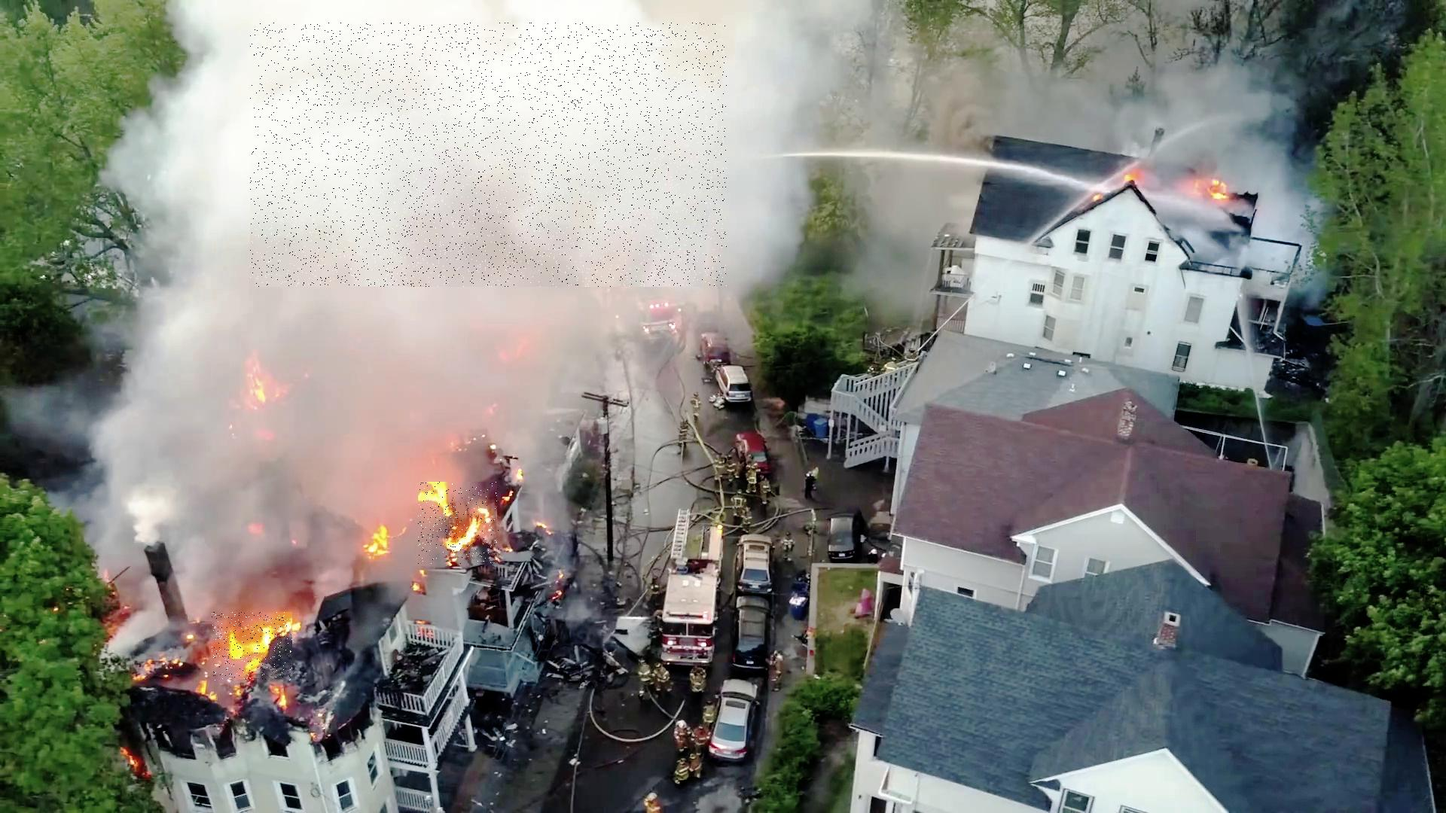fire: (419, 482, 499, 565), (212, 612, 292, 681)
smoke: (251, 23, 727, 287)
